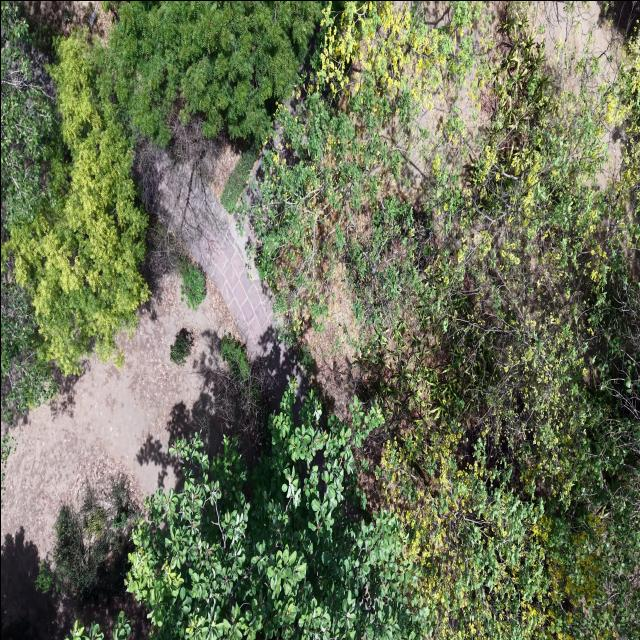DRY_AREA: (1, 156, 305, 638), (1, 157, 296, 617), (1, 128, 302, 555), (1, 151, 299, 557), (1, 151, 295, 558), (1, 154, 296, 555), (1, 153, 296, 552), (1, 275, 240, 639), (1, 274, 239, 639), (1, 275, 237, 557), (148, 151, 307, 408), (151, 151, 304, 390), (148, 140, 300, 376), (135, 120, 278, 358), (157, 156, 286, 355), (156, 153, 274, 358), (408, 68, 493, 200), (532, 1, 629, 95), (531, 1, 624, 92), (22, 1, 114, 47)
PATHWAYS: (156, 154, 305, 402)
VEGETATION_TREE: (1, 1, 639, 639), (251, 4, 639, 639), (373, 21, 639, 638), (1, 1, 320, 374), (248, 4, 487, 335), (127, 388, 425, 639), (1, 4, 148, 420), (7, 33, 148, 374), (252, 91, 401, 334), (109, 1, 321, 145), (31, 468, 148, 639), (37, 477, 148, 633), (37, 476, 138, 606), (1, 3, 54, 241), (1, 1, 55, 231), (198, 334, 275, 466), (1, 273, 56, 423), (144, 220, 206, 310), (144, 219, 182, 291), (221, 143, 259, 212), (219, 335, 251, 384), (180, 256, 206, 310), (170, 328, 194, 364), (66, 621, 104, 639), (1, 432, 14, 483)
